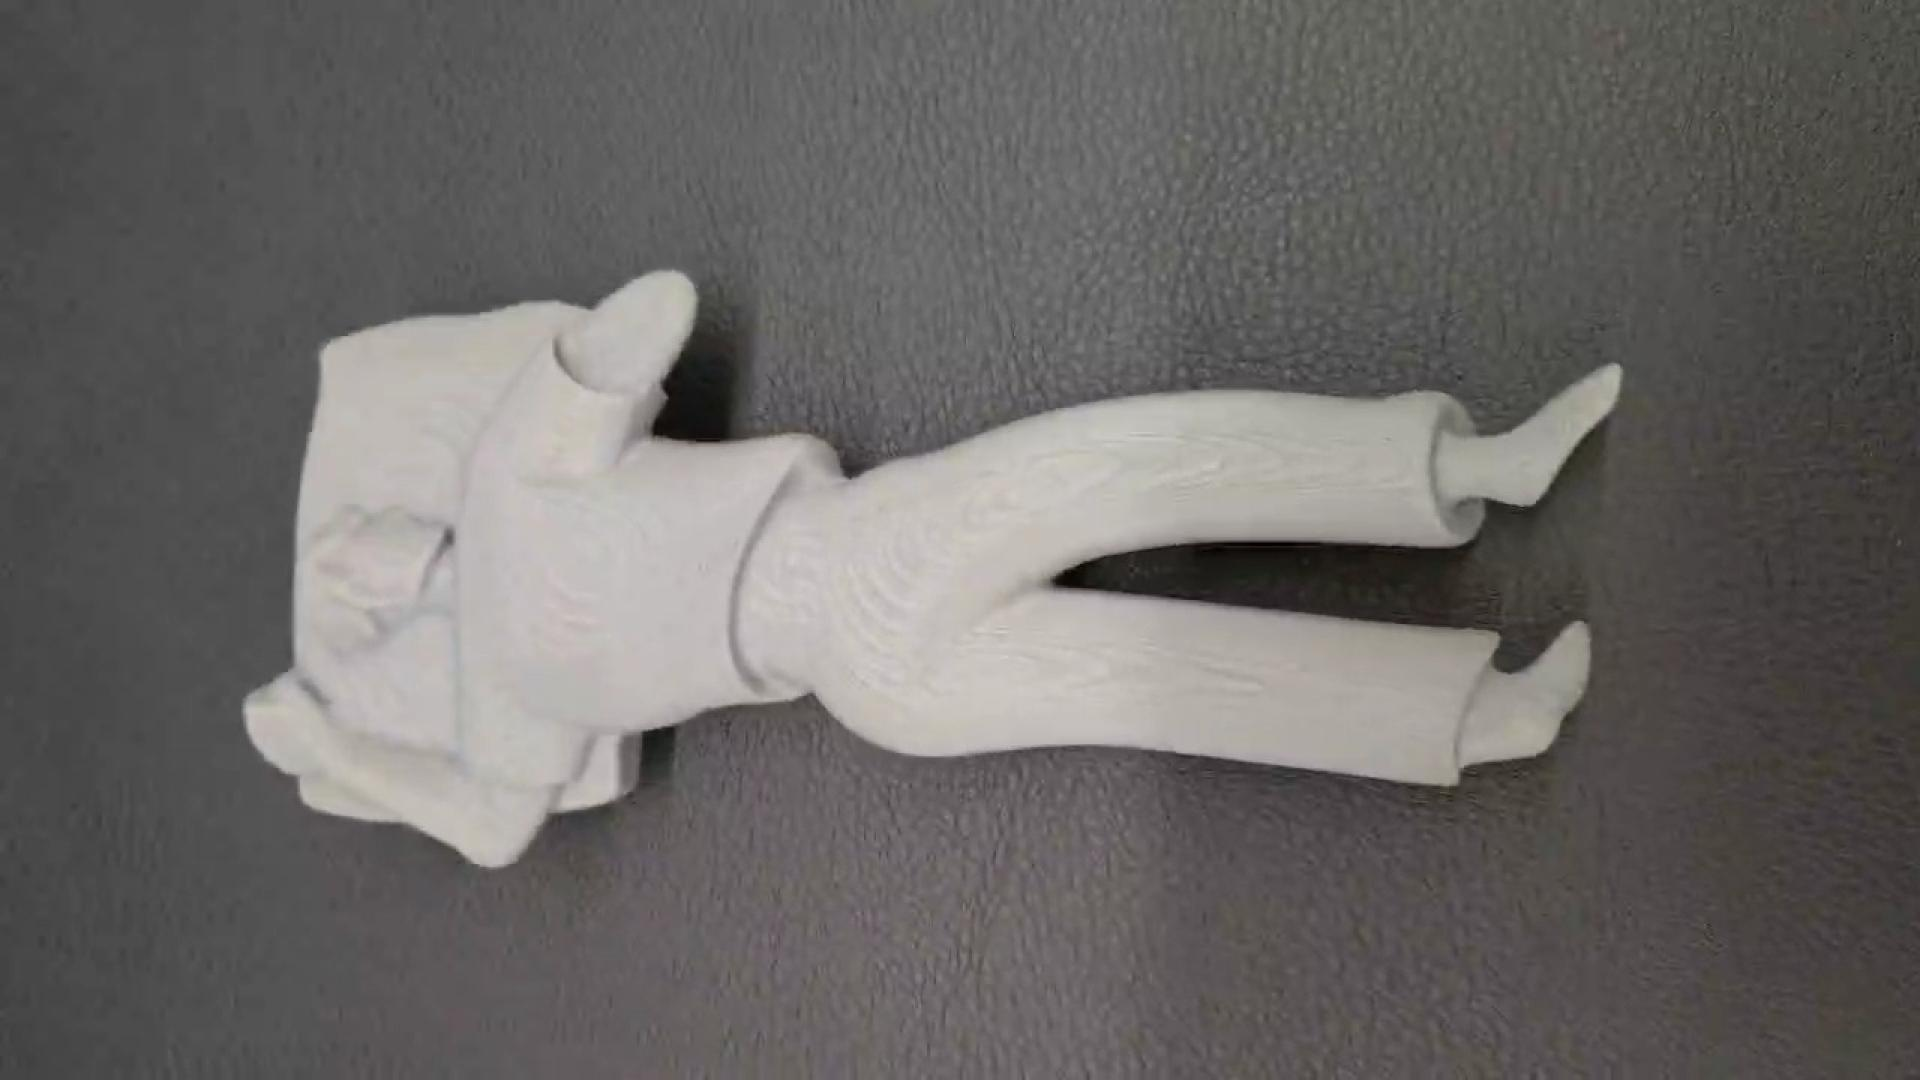Bad-style: (241, 265, 1622, 858)
